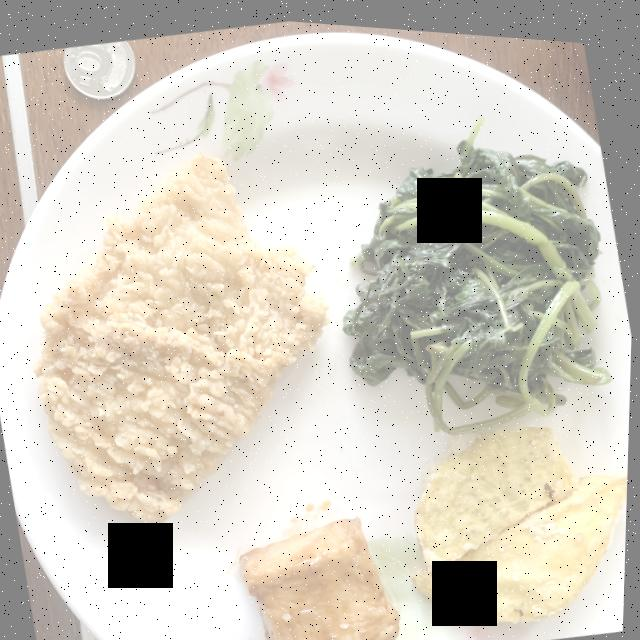coin: (64, 39, 136, 98)
creamy tofu: (243, 512, 404, 640)
fried chicken cutlet: (36, 151, 330, 519)
sweet potato leaves: (345, 110, 614, 427)
